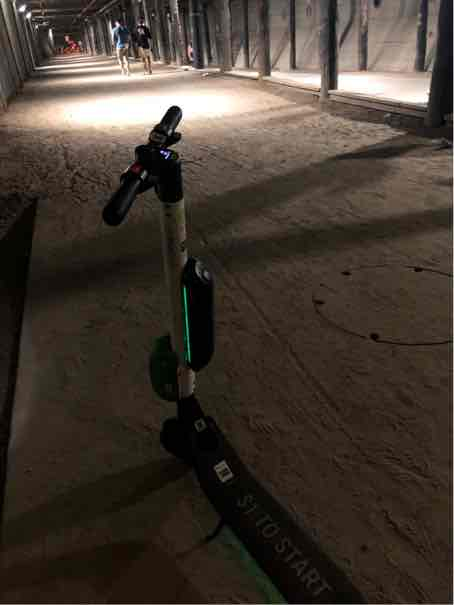scooter: (99, 101, 377, 605)
